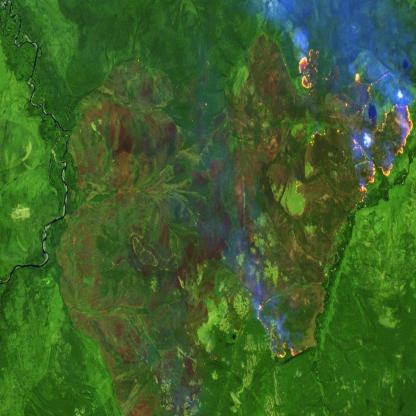fire: (296, 43, 416, 202), (252, 293, 307, 362)
